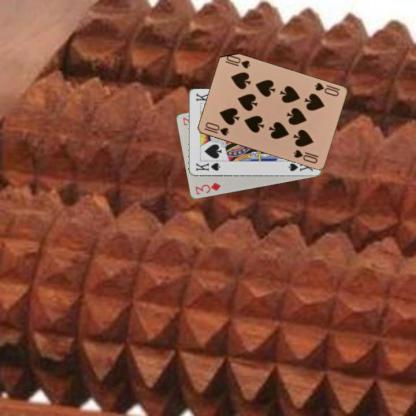10s: (311, 80, 340, 98), (202, 120, 230, 137)
3d: (192, 180, 223, 196)
Ks: (193, 160, 221, 172)
